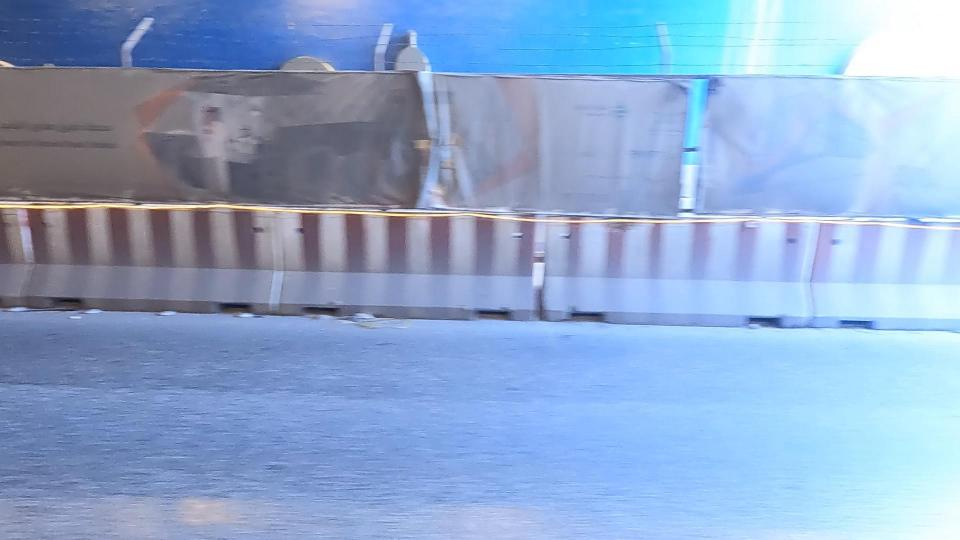CONSTRUCTION_ROAD: (245, 129, 907, 383), (0, 118, 414, 382)
